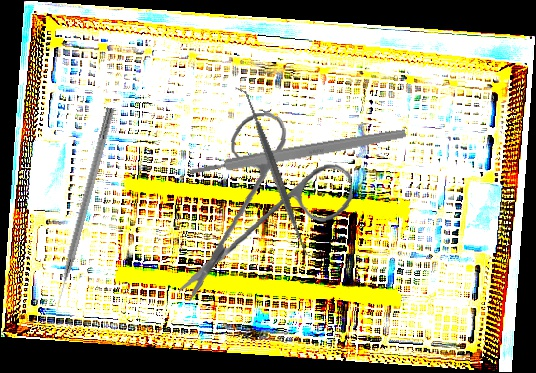Hook Surgical: (50, 106, 116, 313)
Iris Scissors: (164, 105, 361, 302)
Scalpel Handle: (188, 127, 407, 178)
Spatula Surgical: (233, 81, 317, 263)
